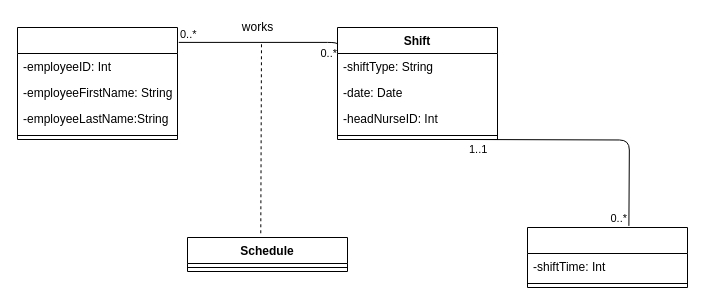
This 705x305 diagram has some shape labels left out. The shapes that lost their labels are listed below. From the top down, each one's box as (x1, y1, x2, y2) in pixels, then its label:
(16, 26, 178, 140): Nurse
(526, 226, 688, 288): ShiftType
